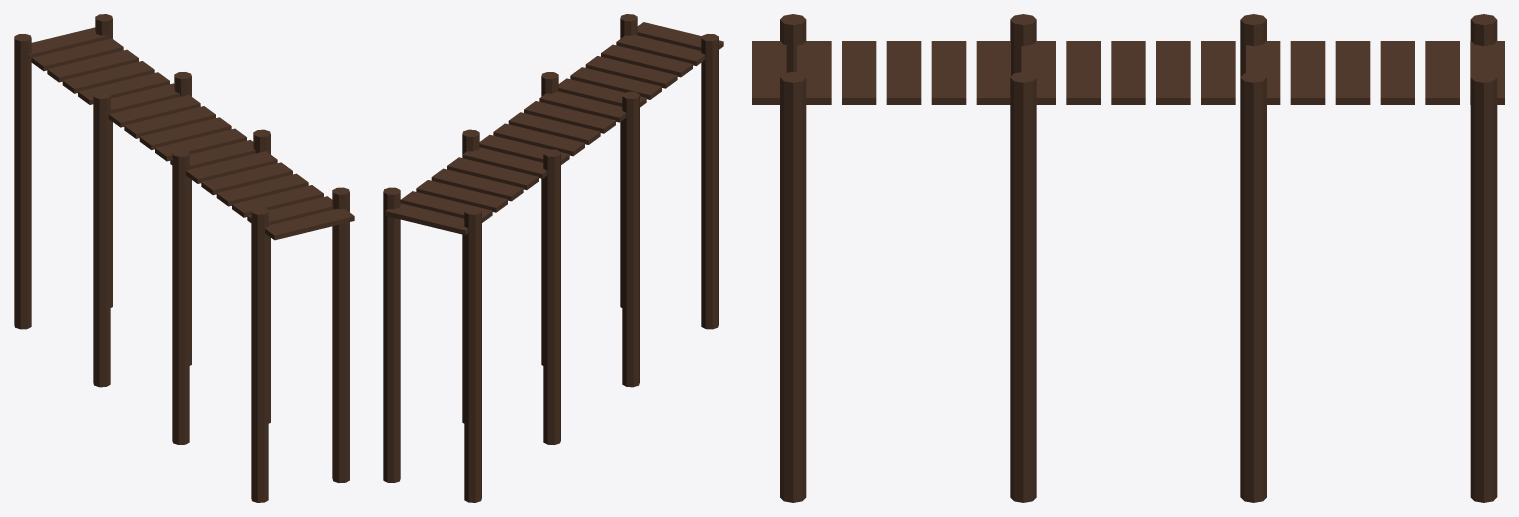
The model's file is fisherman_pier.gltf.
3 renders of one model, left to right at view 1: azimuth 30°, elevation 25°; view 2: azimuth 150°, elevation 25°; view 3: azimuth 270°, elevation 25°, orthographic. The views are drawn at different scales.
Visible parts, largest first — view 1: Cylinder, Cube; view 2: Cylinder, Cube; view 3: Cylinder, Cube.
Boxes of the visible parts, x1=… form: Cylinder: x1=14, y1=14, x2=349, y2=502; Cube: x1=28, y1=27, x2=354, y2=240; Cylinder: x1=383, y1=14, x2=718, y2=502; Cube: x1=385, y1=22, x2=723, y2=235; Cylinder: x1=780, y1=14, x2=1497, y2=502; Cube: x1=752, y1=41, x2=1504, y2=104.
Size of the model in its own units: 2.42 by 6.88 by 11.17.
